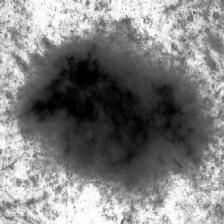Benign Marking or Mole: (21, 42, 198, 170)
